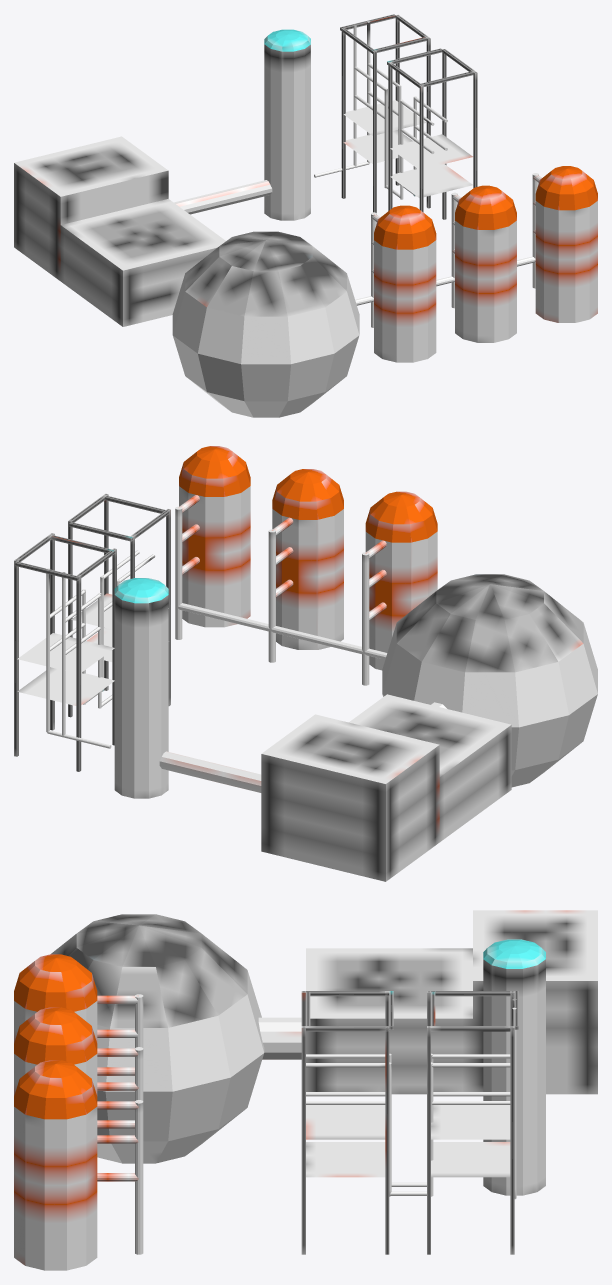
File: CCS-plant.fbx
3 views of the same model, one above another, from view 1: azimuth 30°, elevation 25°; view 2: azimuth 150°, elevation 25°; view 3: azimuth 270°, elevation 25° (orthographic). The views are drawn at different scales.
Visible parts, largest first — view 1: sphere_3, cube, cube_1, cylinder_14, cylinder_2, cylinder, cylinder_1, sphere, sphere_2, sphere_1, plane_2, cylinder_15 (+10 smaller); view 2: sphere_3, cube_1, cylinder_14, cube, cylinder, cylinder_1, cylinder_2, sphere_2, sphere_1, sphere, cylinder_15, plane_1 (+14 smaller); view 3: sphere_3, cube, cube_1, cylinder, cylinder_14, sphere, sphere_2, sphere_1, plane_2, plane_1, plane_3, plane (+13 smaller).
Boxes of the visible parts, x1,y1,x2,y2 form: sphere_3: [172, 231, 359, 417]; cube: [60, 199, 225, 326]; cube_1: [14, 136, 168, 280]; cylinder_14: [264, 44, 310, 220]; cylinder_2: [374, 240, 436, 362]; cylinder: [535, 201, 597, 322]; cylinder_1: [455, 220, 516, 342]; sphere: [535, 166, 597, 210]; sphere_2: [374, 205, 436, 249]; sphere_1: [455, 185, 516, 229]; plane_2: [390, 164, 472, 197]; cylinder_15: [174, 180, 272, 214]; sphere_3: [382, 574, 597, 787]; cube_1: [261, 714, 439, 881]; cylinder_14: [114, 595, 168, 798]; cube: [349, 694, 511, 841]; cylinder: [179, 486, 250, 627]; cylinder_1: [272, 509, 343, 649]; cylinder_2: [365, 531, 437, 670]; sphere_2: [365, 491, 437, 542]; sphere_1: [272, 469, 343, 519]; sphere: [179, 446, 250, 496]; cylinder_15: [159, 751, 261, 792]; plane_1: [17, 667, 114, 705]; sphere_3: [51, 914, 264, 1163]; cube: [306, 948, 472, 1094]; cube_1: [473, 910, 597, 1094]; cylinder: [14, 1107, 97, 1270]; cylinder_14: [483, 959, 545, 1195]; sphere: [14, 1060, 97, 1119]; sphere_2: [14, 954, 97, 1011]; sphere_1: [14, 1007, 97, 1064]; plane_2: [306, 1142, 385, 1177]; plane_1: [431, 1142, 510, 1177]; plane_3: [306, 1105, 385, 1139]; plane: [431, 1105, 510, 1139].
Bounding box in the file's own units: 87.5 × 51.56 × 87.5.
1 material, 1 textured.
